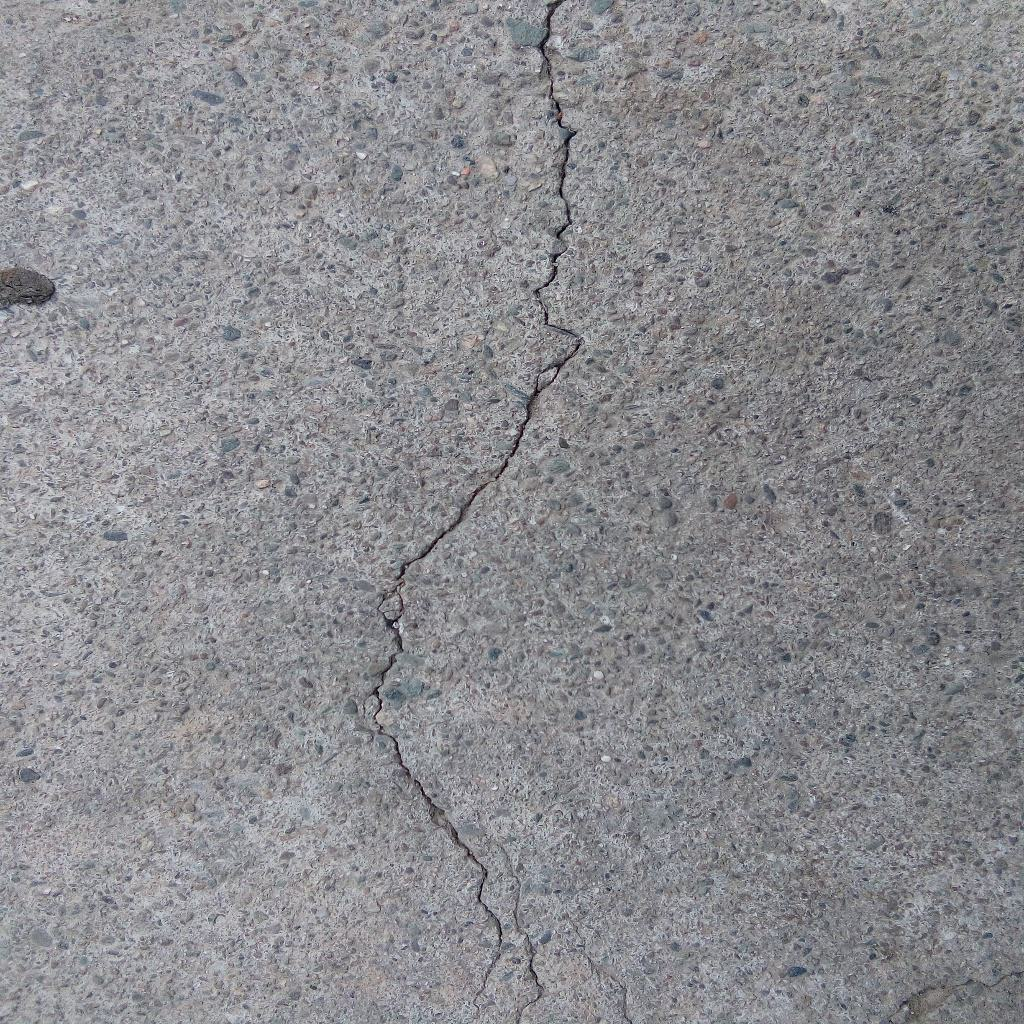Crack: (365, 1, 583, 1024)
